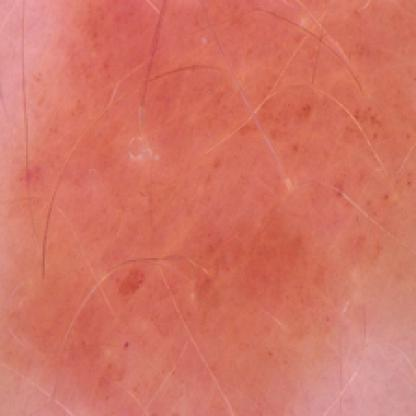benign: (56, 226, 328, 320)
